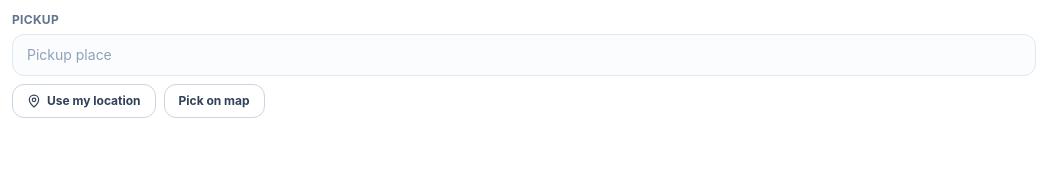
Test: RideLocationField current location › falls back to the coordinates when the place name can't be found
Click the button "Use my location": (84, 101) left=12, top=84, right=156, bottom=118
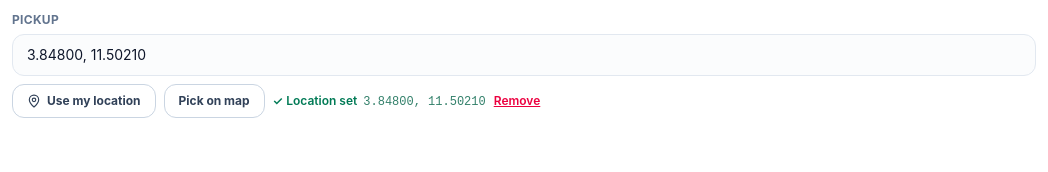
Expected: the field labelled "Pickup" holds "3.84800, 11.50210", left=12, top=34, right=1036, bottom=76
